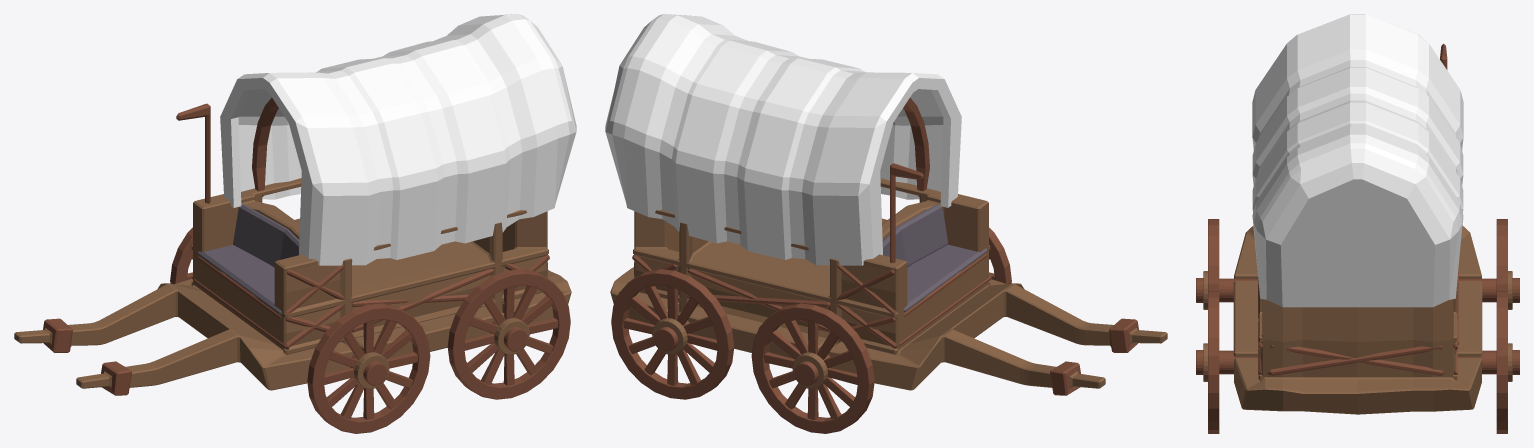
File: env-car1.fbx
3 renders of one model, left to right at view 1: azimuth 30°, elevation 25°; view 2: azimuth 150°, elevation 25°; view 3: azimuth 270°, elevation 25°, orthographic. The views are drawn at different scales.
Visible parts, largest first — view 1: Cube.217, Cylinder.080; view 2: Cube.217, Cylinder.080; view 3: Cube.217, Cylinder.080.
Part boxes in pixels (bbox=[...]): Cube.217: bbox=[14, 14, 576, 395]; Cylinder.080: bbox=[170, 227, 570, 433]; Cube.217: bbox=[605, 14, 1167, 395]; Cylinder.080: bbox=[611, 227, 1011, 433]; Cube.217: bbox=[1233, 14, 1482, 414]; Cylinder.080: bbox=[1196, 219, 1519, 433].
Size of the model in its own units: 717 by 434 by 388.
